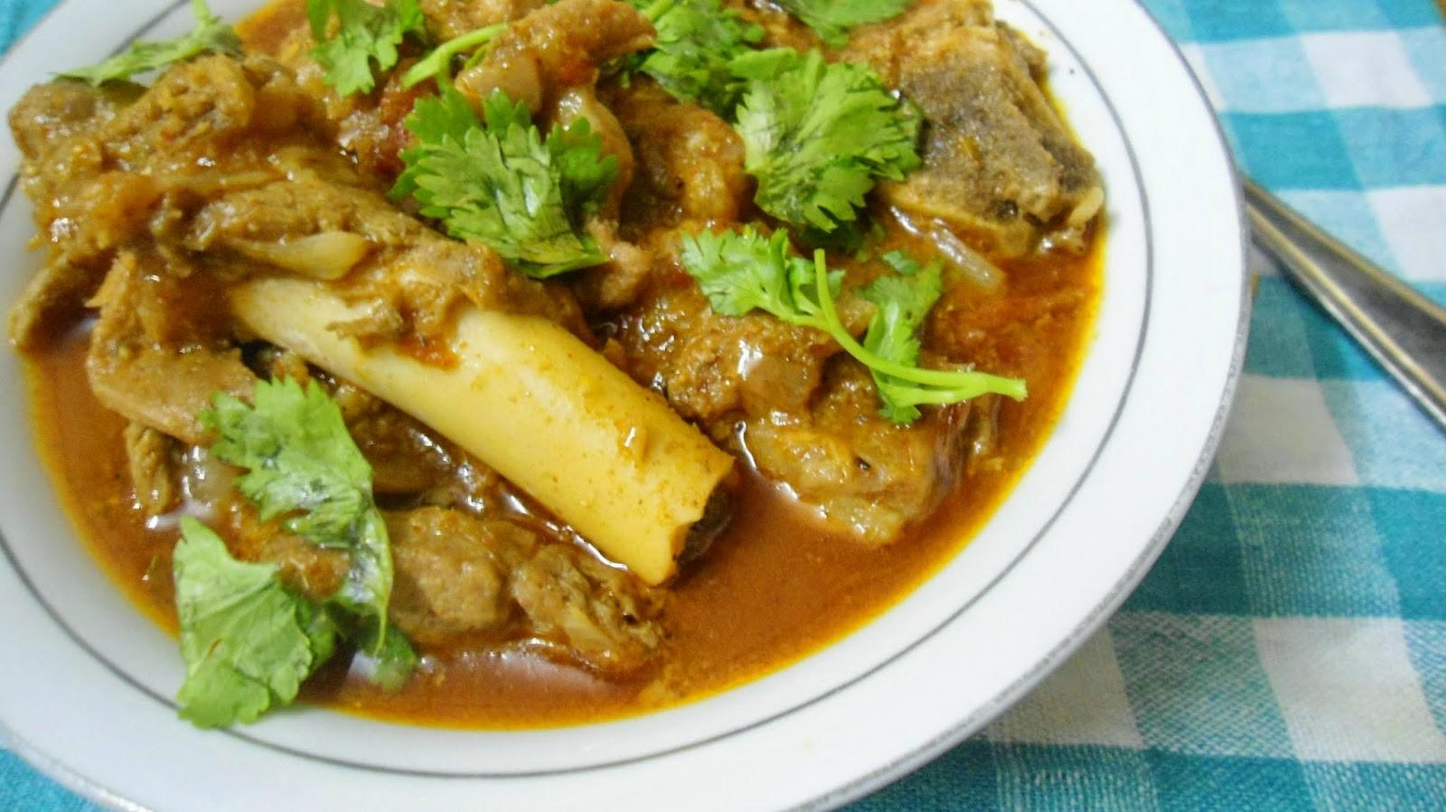MuttonCurry: (0, 0, 1109, 731)
